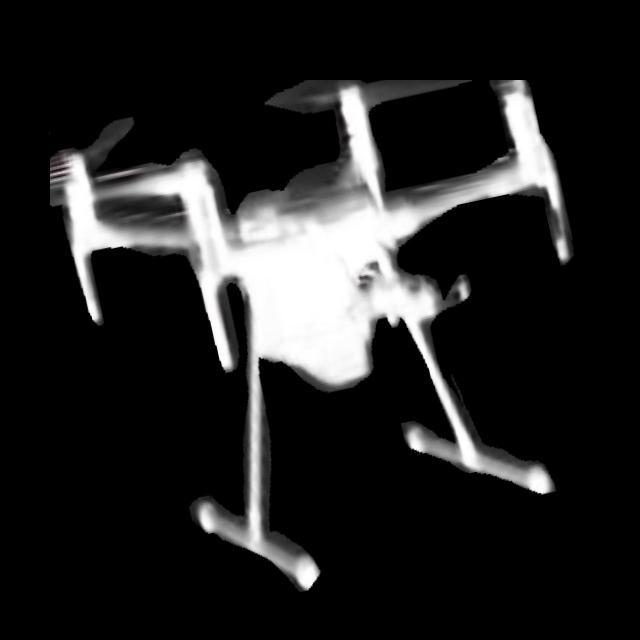drone: (50, 80, 596, 598)
